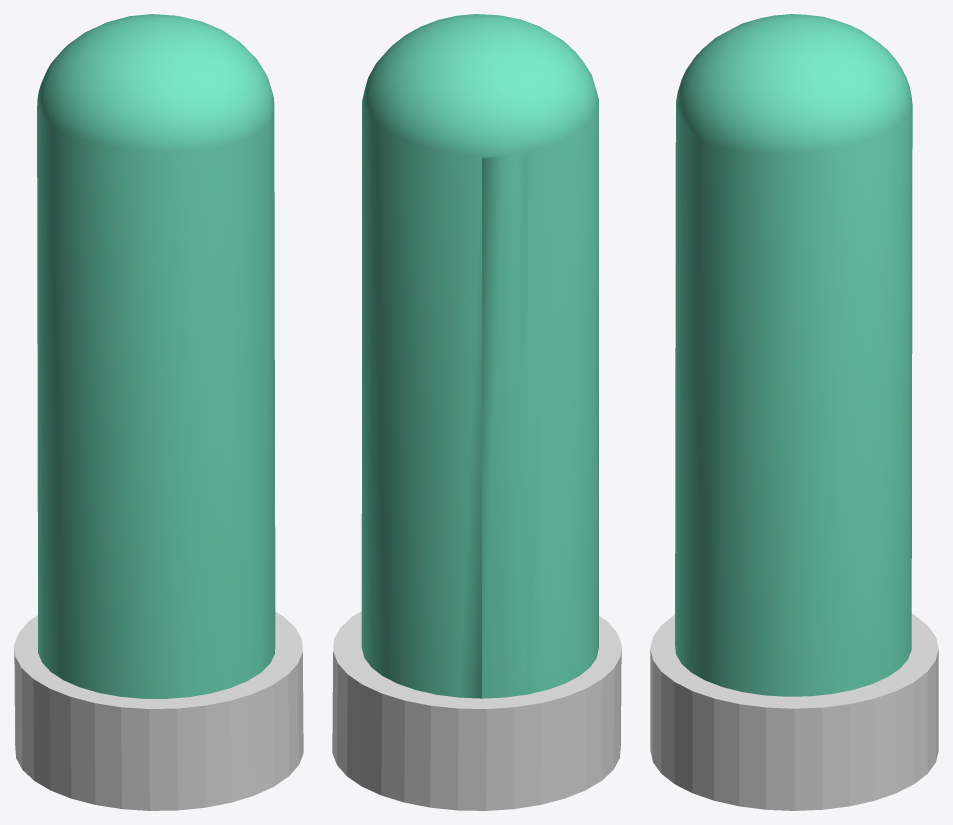
Rendered from Tabung Monster.glb.
3 renders of one model, left to right at view 1: azimuth 30°, elevation 25°; view 2: azimuth 150°, elevation 25°; view 3: azimuth 270°, elevation 25°, orthographic.
Visible parts, largest first — view 1: Sphere.001, Sphere; view 2: Sphere.001, Sphere; view 3: Sphere.001, Sphere.
Part boxes in pixels (box(x1,y1,x2,y2)): Sphere.001: box(37, 14, 275, 698); Sphere: box(14, 612, 303, 810); Sphere.001: box(361, 14, 598, 698); Sphere: box(332, 611, 621, 810); Sphere.001: box(675, 14, 912, 696); Sphere: box(650, 614, 938, 810).
Size of the model in its own units: 9.01 by 24.77 by 8.98.
